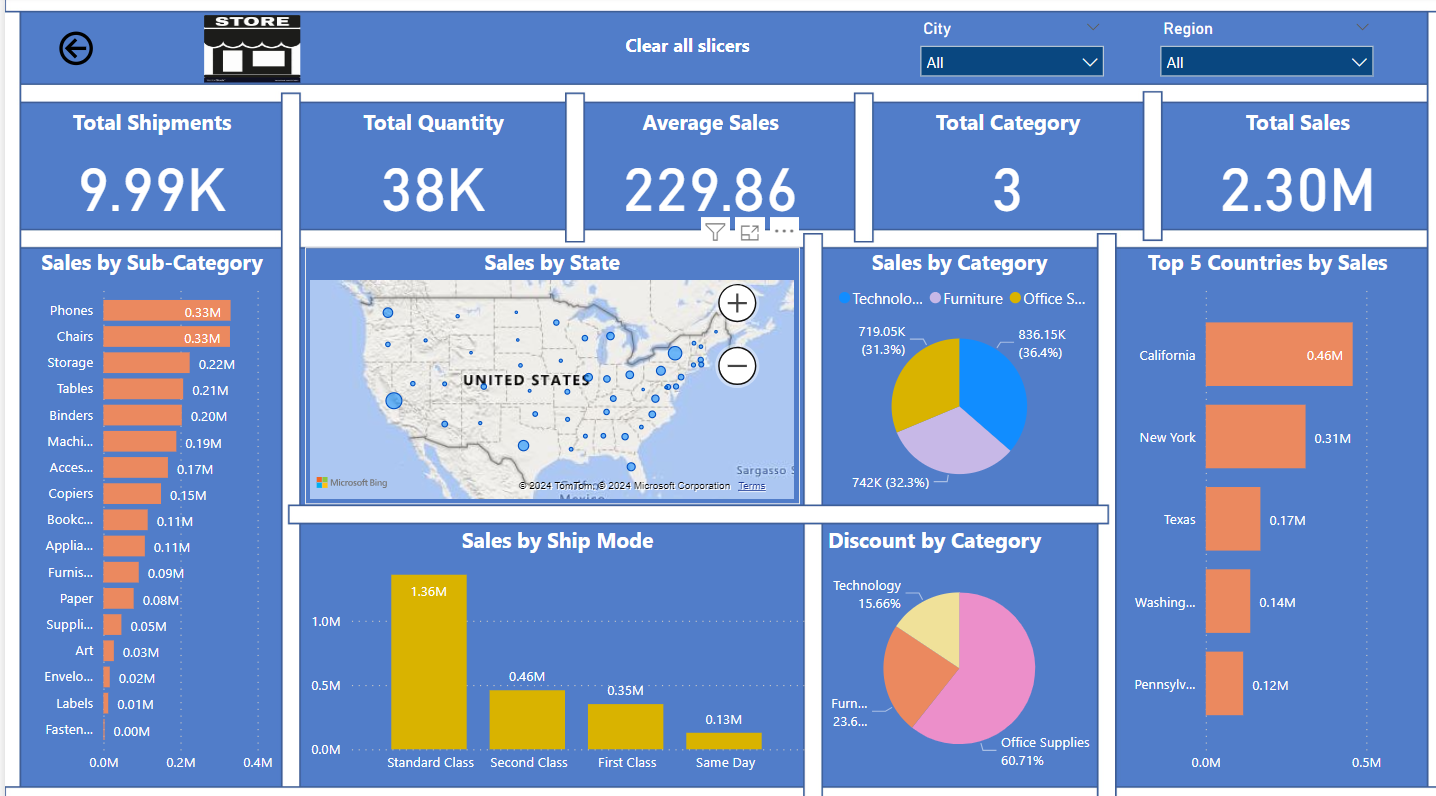

This screenshot's page, from the dashboard's own definition file:
{"tool":"powerbi","page":{"name":"Sales","canvas":[1280,720],"ordinal":1},"visuals":[{"type":"card","title":"Total Shipments","fields":{"Values":["CountNonNull(SampleSuperstore.Ship Mode)"]},"box":[17.8,98.7,226.2,108.3],"z":0},{"type":"card","title":"Total Quantity","fields":{"Values":["Sum(SampleSuperstore.Quantity)"]},"box":[267.4,98.7,229,108.3],"z":1000},{"type":"card","title":"Total Sales","fields":{"Values":["Sum(SampleSuperstore.Sales)"]},"box":[1033.9,98.9,234,108.6],"z":2000},{"type":"card","title":"Total Category","fields":{"Values":["Count(SampleSuperstore.Category)"]},"box":[776,98.7,234.4,108.3],"z":3000},{"type":"card","title":"Average Sales","fields":{"Values":["Avg(SampleSuperstore.Sales)"]},"box":[515.2,98.9,225.6,108.6],"z":4000},{"type":"pieChart","title":"Sales by Category","fields":{"Category":["SampleSuperstore.Category"],"Y":["Sum(SampleSuperstore.Sales)"]},"box":[728,223.5,244,229],"z":5000},{"type":"columnChart","title":"Sales by Ship Mode","fields":{"Category":["SampleSuperstore.Ship Mode"],"Y":["Sum(SampleSuperstore.Sales)"]},"box":[267.4,471.6,449.7,229],"z":6000},{"type":"barChart","title":"Sales by Sub-Category","fields":{"Y":["Sum(SampleSuperstore.Sales)"],"Category":["SampleSuperstore.Sub-Category"]},"box":[17.8,223.5,226.2,477.1],"z":7000},{"type":"map","title":" Sales by State","fields":{"Size":["Sum(SampleSuperstore.Sales)"],"Category":["SampleSuperstore.State"]},"box":[267.4,223.5,440.1,229],"z":8000},{"type":"pieChart","title":"Discount by Category","fields":{"Category":["SampleSuperstore.Category"],"Y":["Sum(SampleSuperstore.Discount)"]},"box":[728,471.6,244,229],"z":9000},{"type":"barChart","title":"Top 5 Countries by Sales","fields":{"Y":["Sum(SampleSuperstore.Sales)"],"Category":["SampleSuperstore.State"]},"box":[988.5,223.5,271.5,477.1],"z":10000},{"type":"image","box":[172.5,12.1,95.3,70],"z":11000},{"type":"slicer","fields":{"Values":["SampleSuperstore.City"]},"box":[804.8,15.1,183.7,59],"z":12000},{"type":"slicer","fields":{"Values":["SampleSuperstore.Region"]},"box":[1018.7,15.1,209.8,59],"z":13000},{"type":"actionButton","box":[43.4,26.5,100.1,39.8],"z":14000},{"type":"actionButton","box":[507.9,19.3,200.3,49.5],"z":15000}]}

Visuals, with their boxes in screenshot pixels (x1, y1, x2, y2), scaled from the page's 1280x720 canvas onto the 1436x796 screenshot:
"Total Shipments" card: <region>20, 109, 274, 229</region>
"Total Quantity" card: <region>300, 109, 557, 229</region>
"Total Sales" card: <region>1160, 109, 1422, 229</region>
"Total Category" card: <region>871, 109, 1134, 229</region>
"Average Sales" card: <region>578, 109, 831, 229</region>
"Sales by Category" pieChart: <region>817, 247, 1090, 500</region>
"Sales by Ship Mode" columnChart: <region>300, 521, 804, 775</region>
"Sales by Sub-Category" barChart: <region>20, 247, 274, 775</region>
" Sales by State" map: <region>300, 247, 794, 500</region>
"Discount by Category" pieChart: <region>817, 521, 1090, 775</region>
"Top 5 Countries by Sales" barChart: <region>1109, 247, 1414, 775</region>
image: <region>194, 13, 300, 91</region>
slicer - SampleSuperstore.City: <region>903, 17, 1109, 82</region>
slicer - SampleSuperstore.Region: <region>1143, 17, 1378, 82</region>
actionButton: <region>49, 29, 161, 73</region>
actionButton: <region>570, 21, 795, 76</region>
